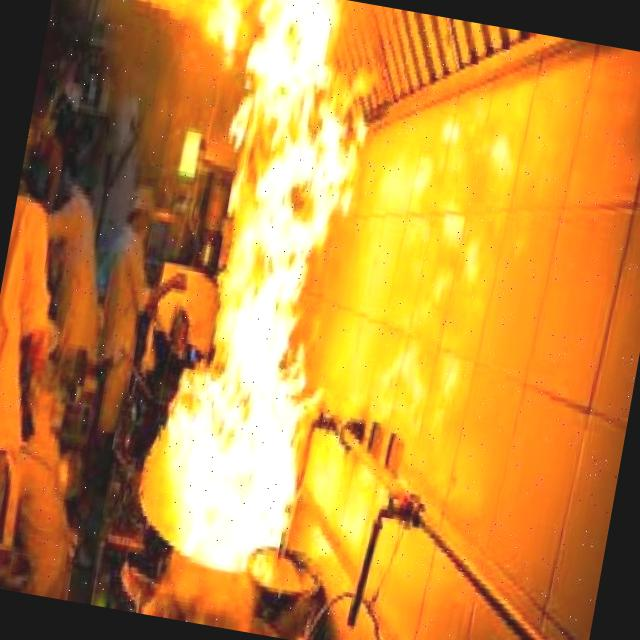fire: (100, 0, 390, 581)
